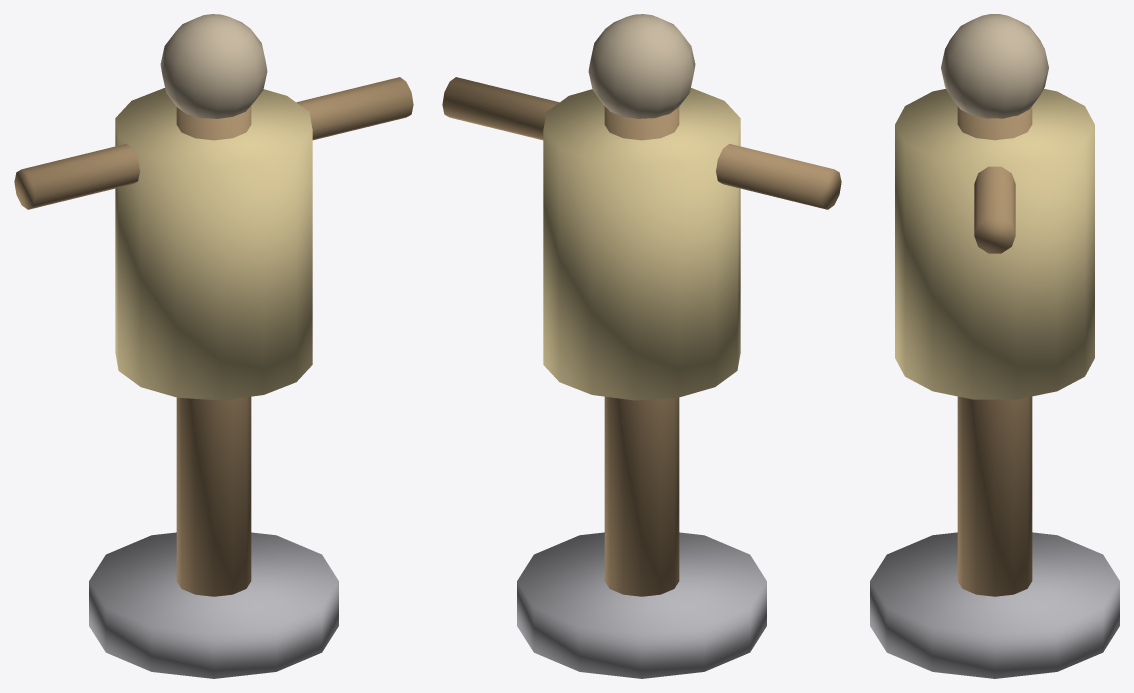
The model's file is dummy.fbx.
The picture shows the model from 3 angles, left to right: view 1: azimuth 30°, elevation 25°; view 2: azimuth 150°, elevation 25°; view 3: azimuth 270°, elevation 25°; orthographic projection.
Parts seen in each view (by area): view 1: TrainingDummy; view 2: TrainingDummy; view 3: TrainingDummy.
Boxes of the visible parts, bbox=[...] form: TrainingDummy: bbox=[14, 14, 413, 678]; TrainingDummy: bbox=[442, 14, 841, 678]; TrainingDummy: bbox=[870, 14, 1119, 678].
Bounding box in the file's own units: 105 × 161 × 60.
